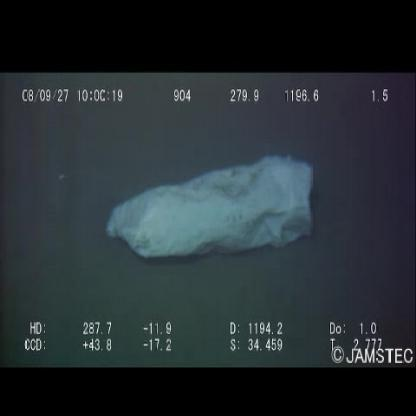Rác: (107, 158, 315, 260)
